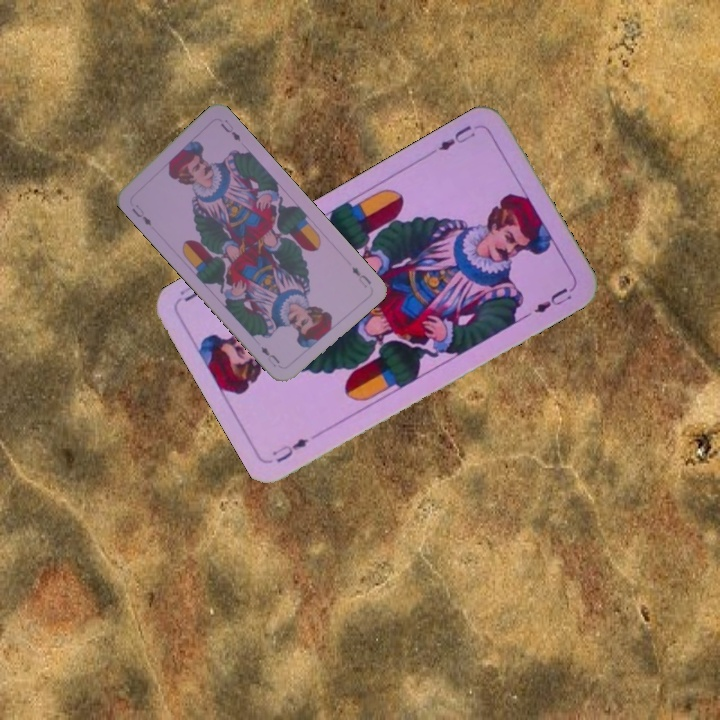EU: (434, 121, 478, 154), (268, 434, 312, 466), (128, 200, 154, 228), (347, 262, 374, 287)
